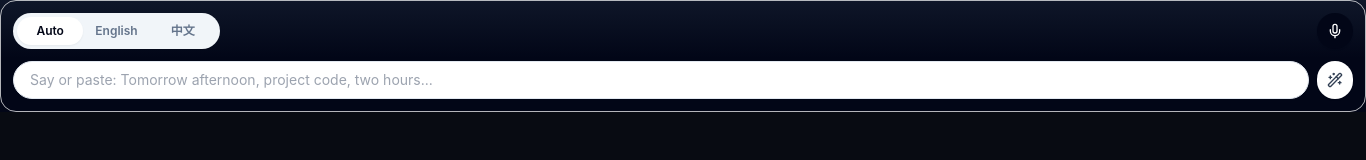
VoiceTaskInput › surfaces microphone permission errors from browser speech recognition
What coordinates should you click on to do the following:
click the button named "Start voice input"
I would click on:
 (1335, 31)
Its box is [1317,13,1353,49].
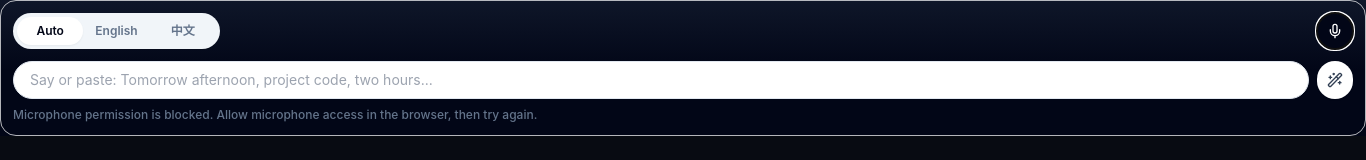
Expected: the message shows "Microphone permission is blocked", [13,107,537,122]
